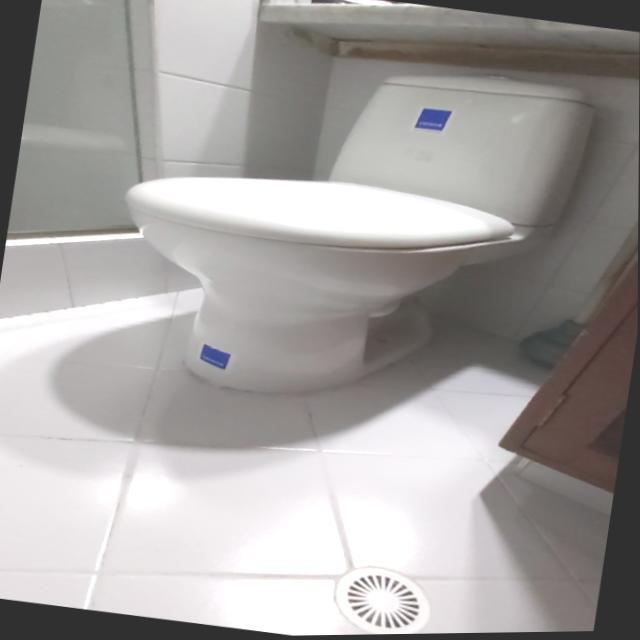toilet: (95, 25, 627, 445)
